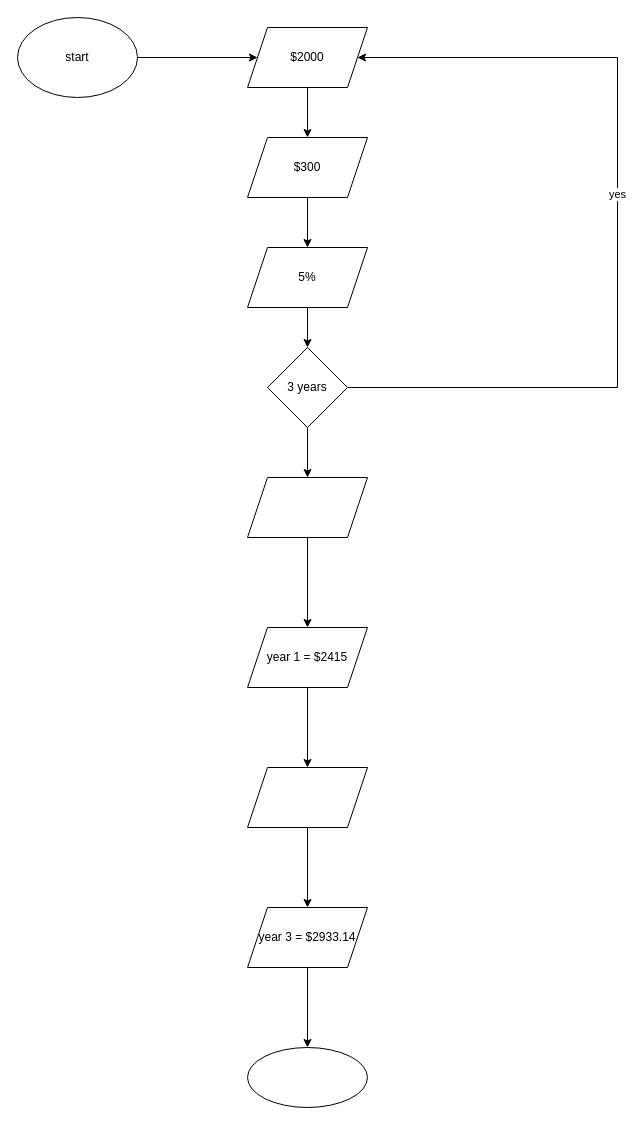
Some shapes in this 643 by 1125 pixel diagram are drawn without their labels. Each missing label, with the centre of its shape:
"stop" goes at pixel 307 1077.
"year 0 = $2000" goes at pixel 307 507.
"year 2 = $2678.14" goes at pixel 307 797.
